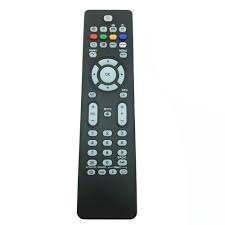remote control: (81, 10, 139, 221)
